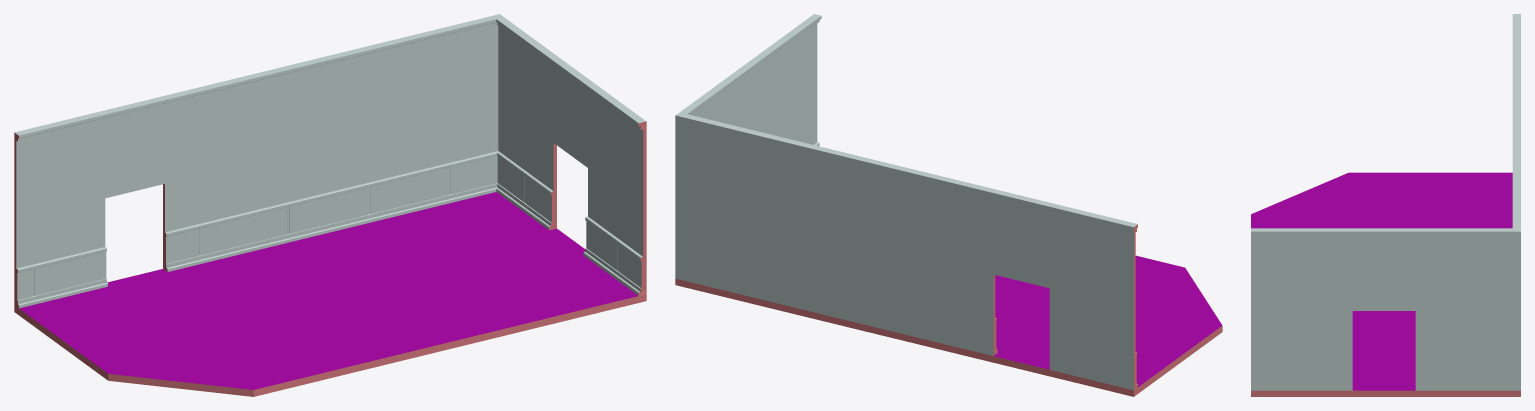
File: DiningRoom.fbx
3 views of the same model, side by side, from view 1: azimuth 30°, elevation 25°; view 2: azimuth 150°, elevation 25°; view 3: azimuth 270°, elevation 25° (orthographic). The views are drawn at different scales.
Visible parts, largest first — view 1: polySurface185; view 2: polySurface185; view 3: polySurface185.
Boxes of the visible parts, x1,y1,x2,y2 form: polySurface185: (14, 14, 646, 396); polySurface185: (675, 14, 1222, 396); polySurface185: (1251, 14, 1520, 396).
Size of the model in its own units: 147 by 52 by 77.
